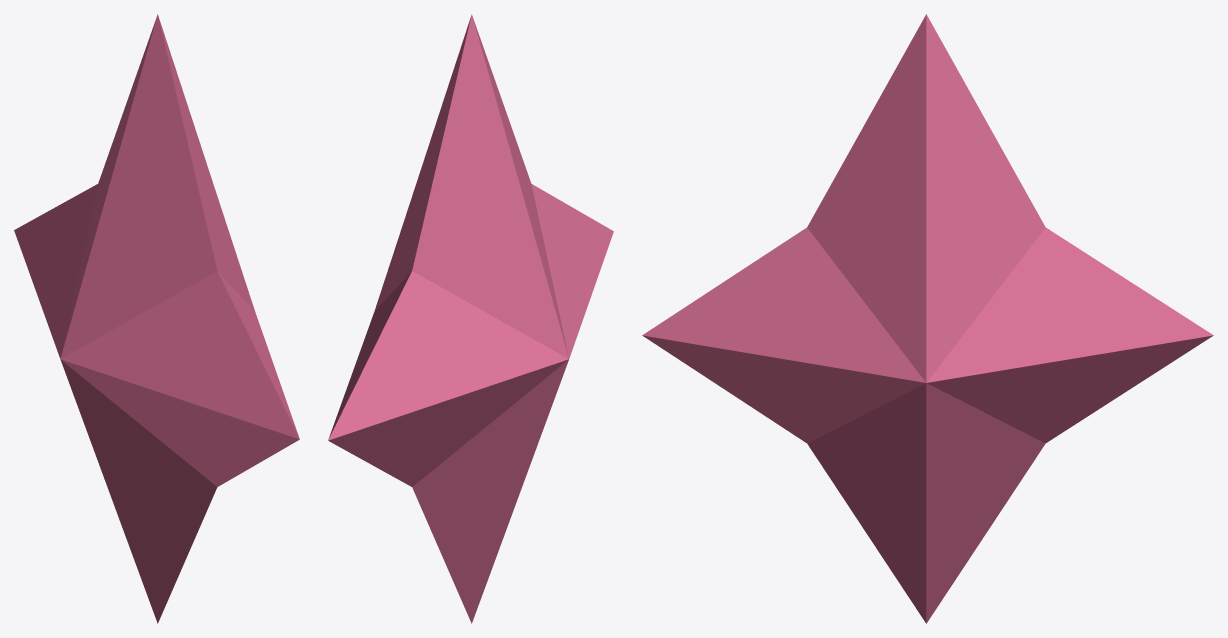
The model's file is StarSliver.fbx.
3 renders of one model, left to right at view 1: azimuth 30°, elevation 25°; view 2: azimuth 150°, elevation 25°; view 3: azimuth 270°, elevation 25°, orthographic.
Parts seen in each view (by area): view 1: StarSliver; view 2: StarSliver; view 3: StarSliver.
Boxes of the visible parts, x1,y1,x2,y2 form: StarSliver: (14, 14, 299, 623); StarSliver: (328, 14, 613, 623); StarSliver: (642, 14, 1213, 623).
Size of the model in its own units: 115 by 344 by 292.
